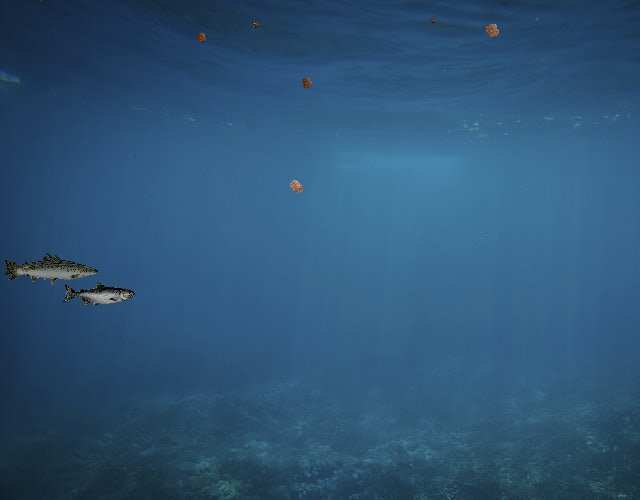Fish: (7, 253, 101, 287), (2, 251, 88, 282), (63, 281, 136, 308)
Pellet: (282, 172, 310, 200), (296, 72, 318, 94), (250, 20, 262, 32)
